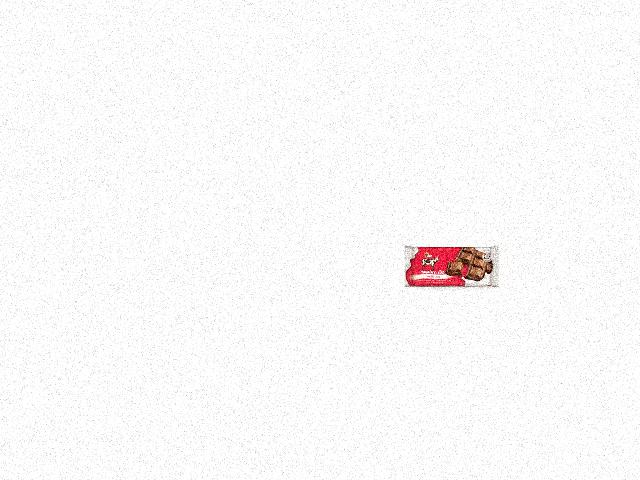chocolate: (402, 242, 500, 294)
